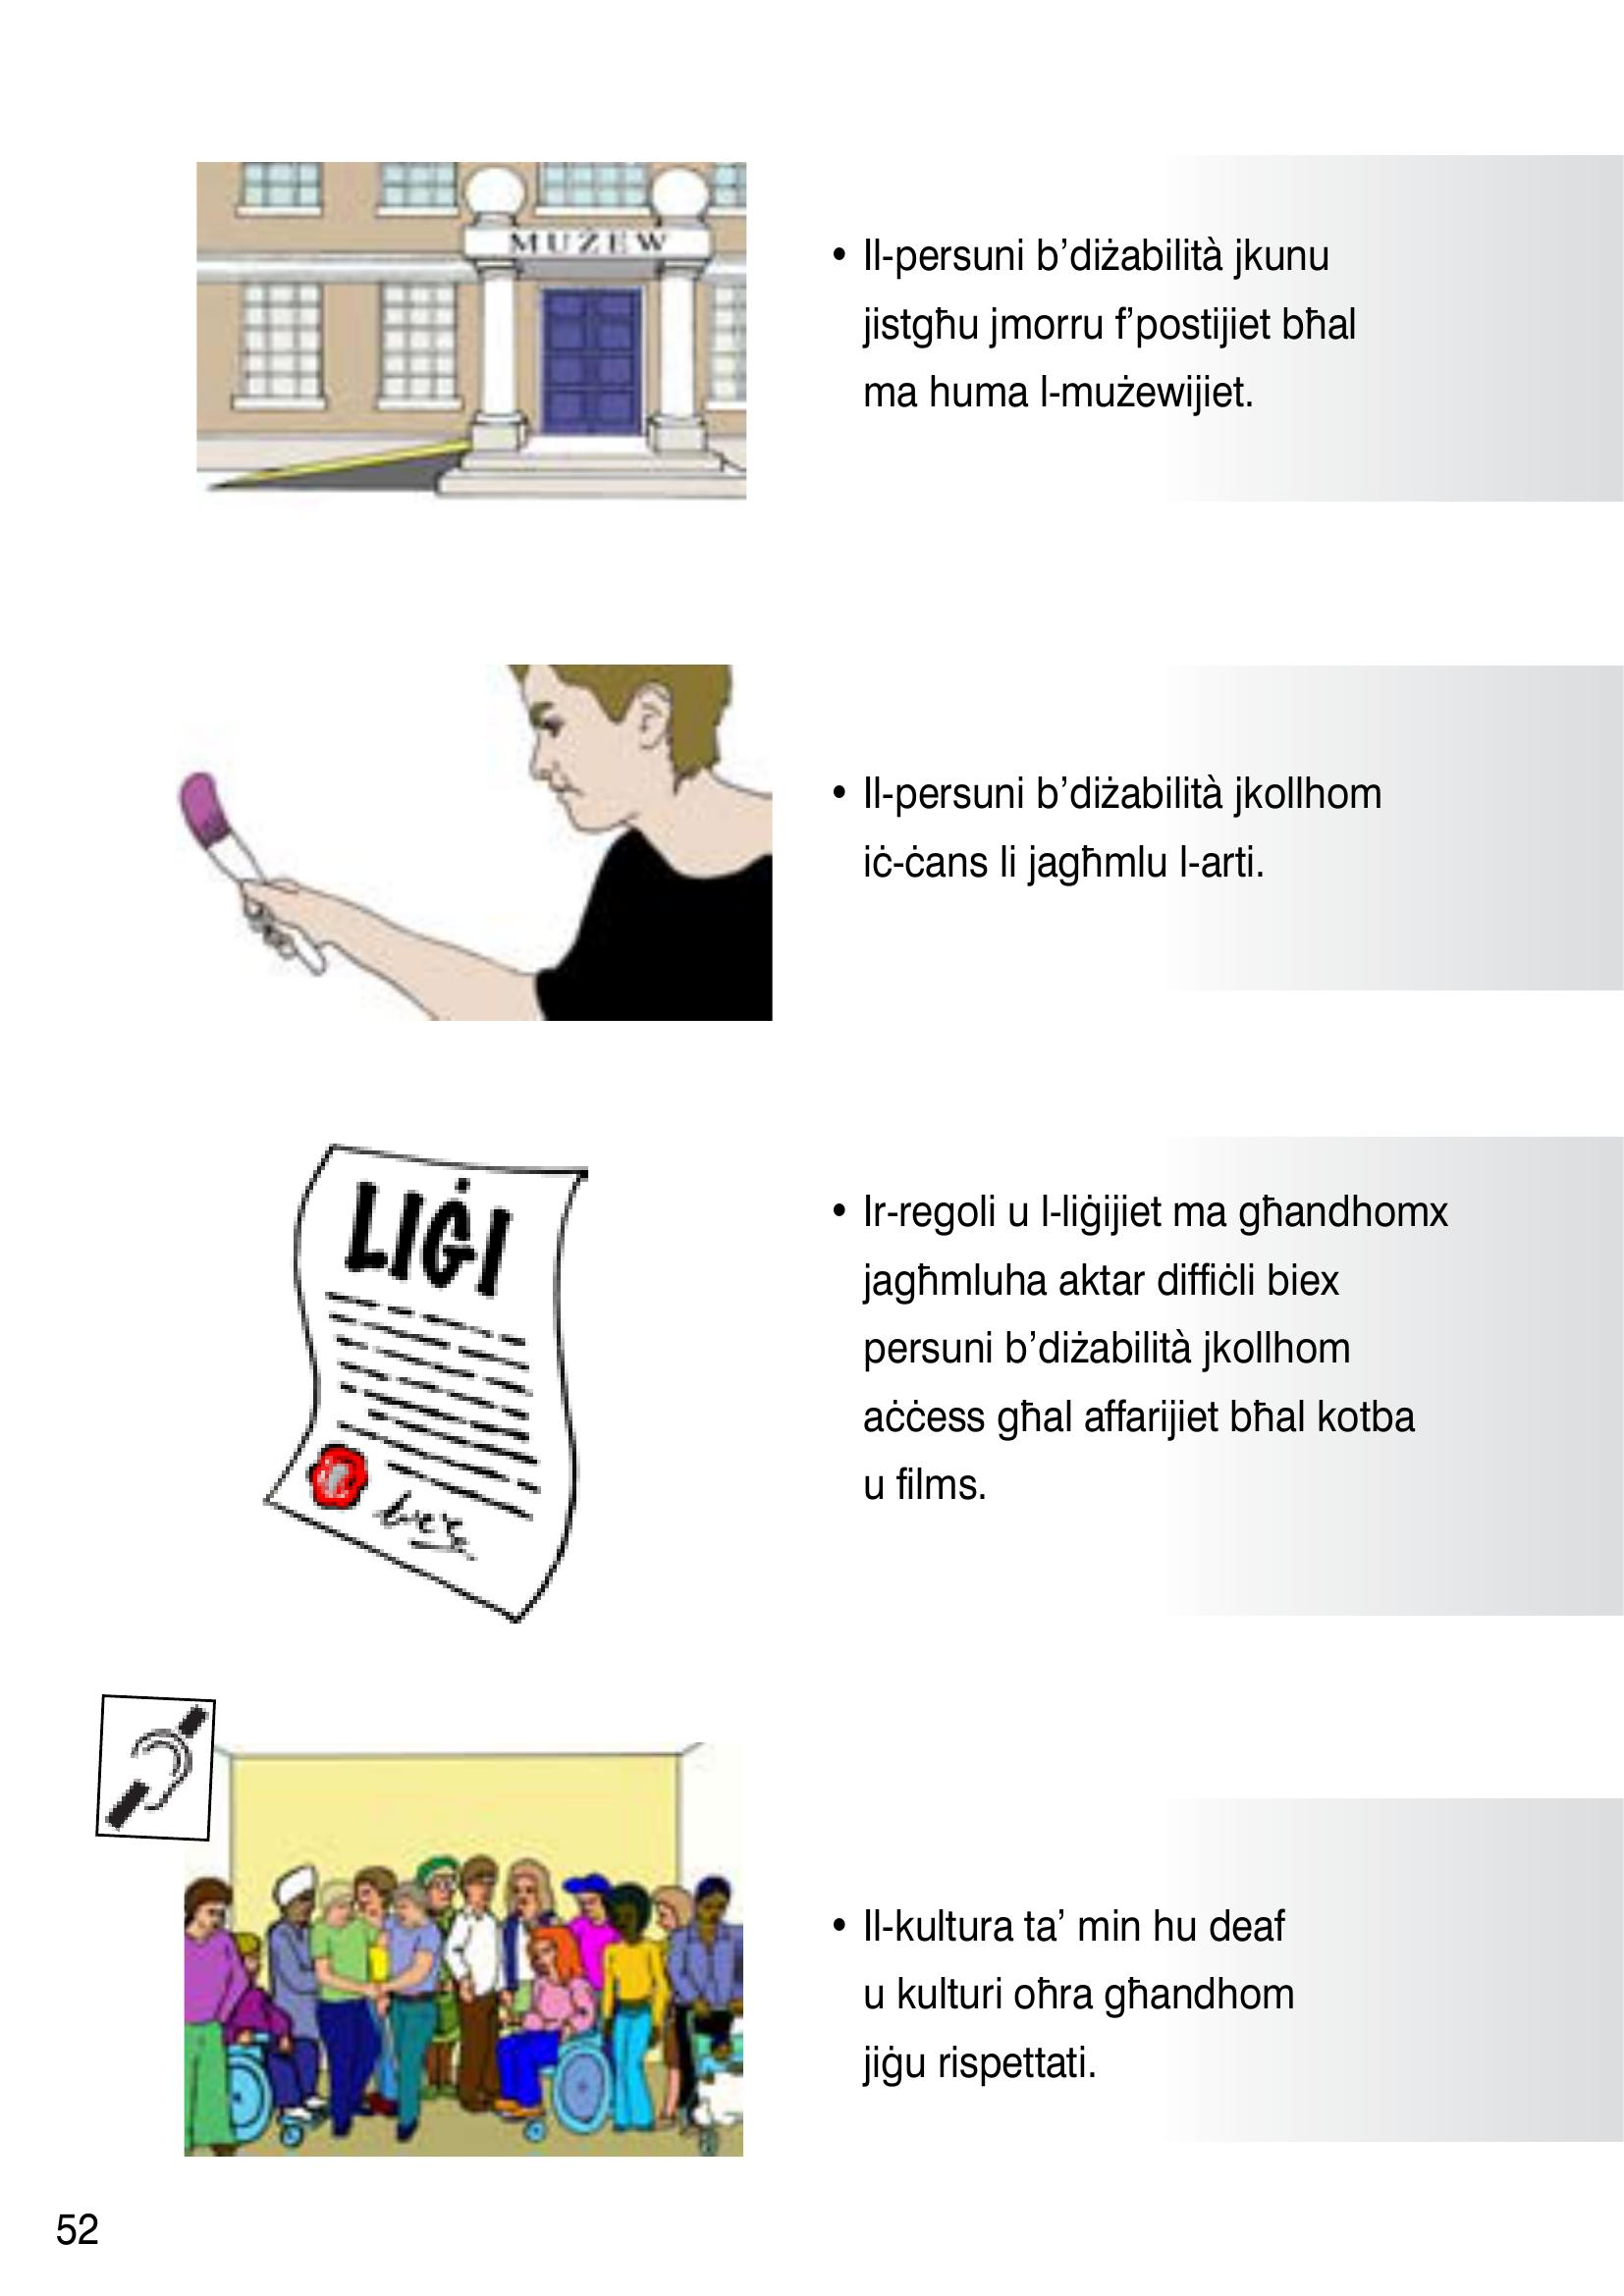text: (814, 186, 1471, 2127)
